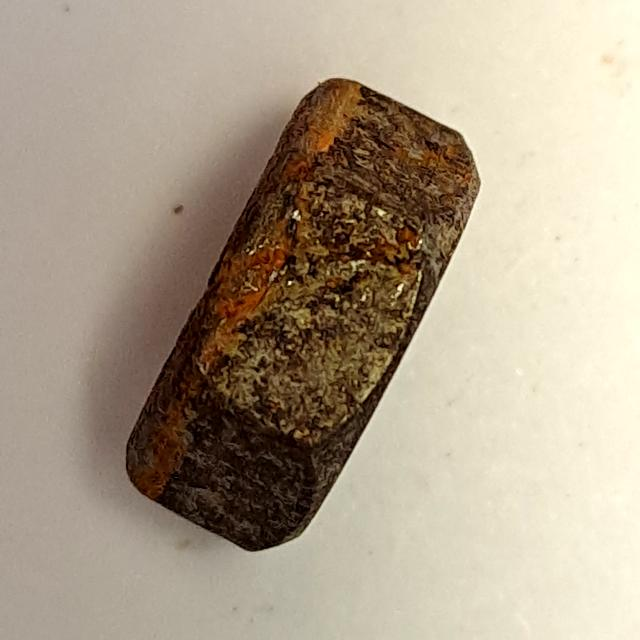Rust: (115, 60, 491, 569)
